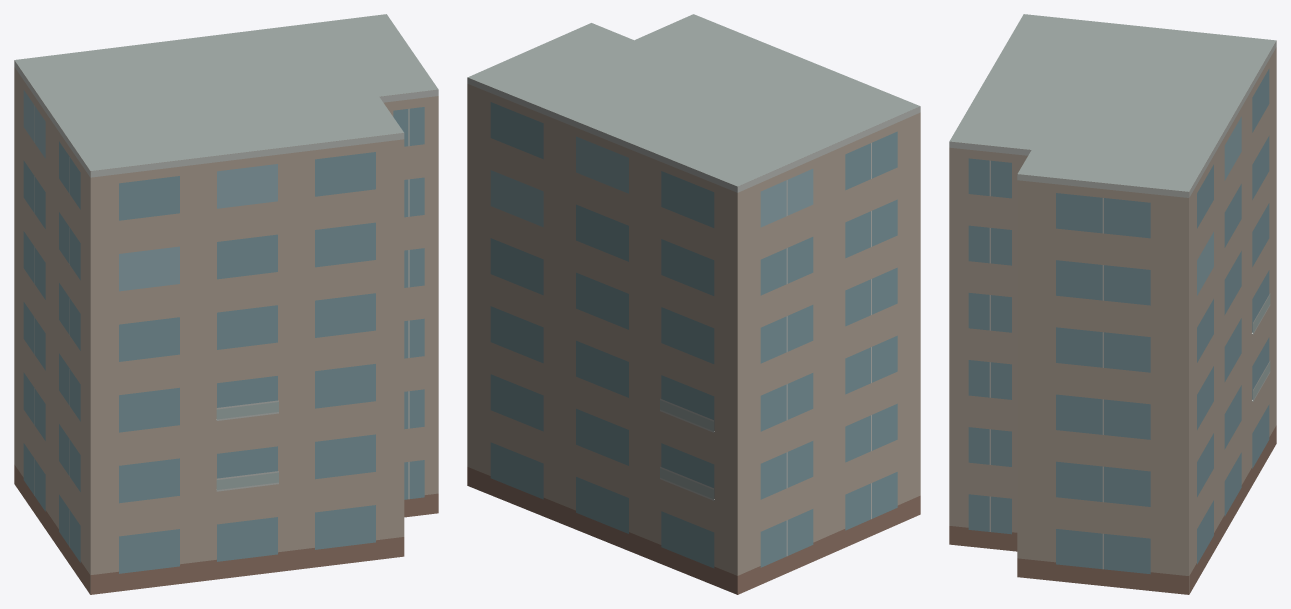
Rendered from survey-upis-32873158.glb.
The picture shows the model from 3 angles, left to right: view 1: azimuth 30°, elevation 25°; view 2: azimuth 150°, elevation 25°; view 3: azimuth 270°, elevation 25°; orthographic projection. The views are drawn at different scales.
Parts seen in each view (by area): view 1: survey-upis-32873158.tmp; view 2: survey-upis-32873158.tmp; view 3: survey-upis-32873158.tmp.
Boxes of the visible parts, left/top/right/bottom form: survey-upis-32873158.tmp: left=14, top=14, right=438, bottom=594; survey-upis-32873158.tmp: left=467, top=14, right=920, bottom=594; survey-upis-32873158.tmp: left=949, top=14, right=1276, bottom=594.
Size of the model in its own units: 15.06 by 15.9 by 11.72.
